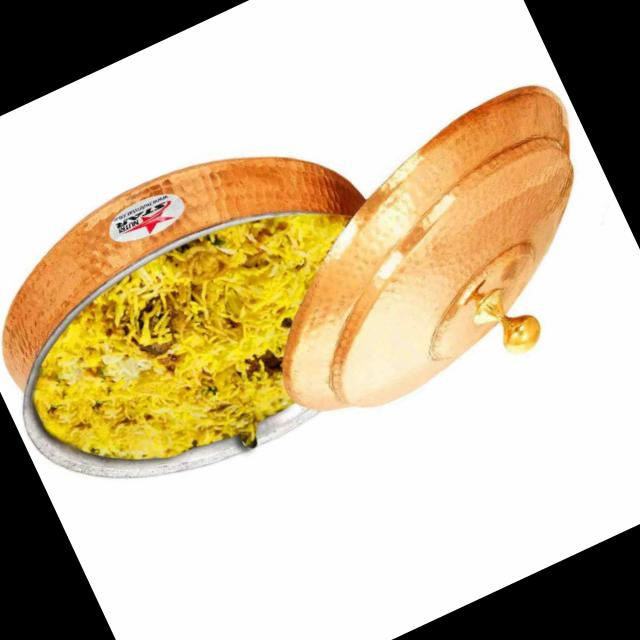Biryani: (0, 171, 427, 528)
